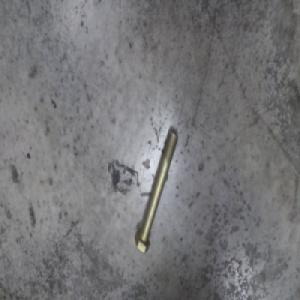Bolt: (136, 119, 179, 254)
